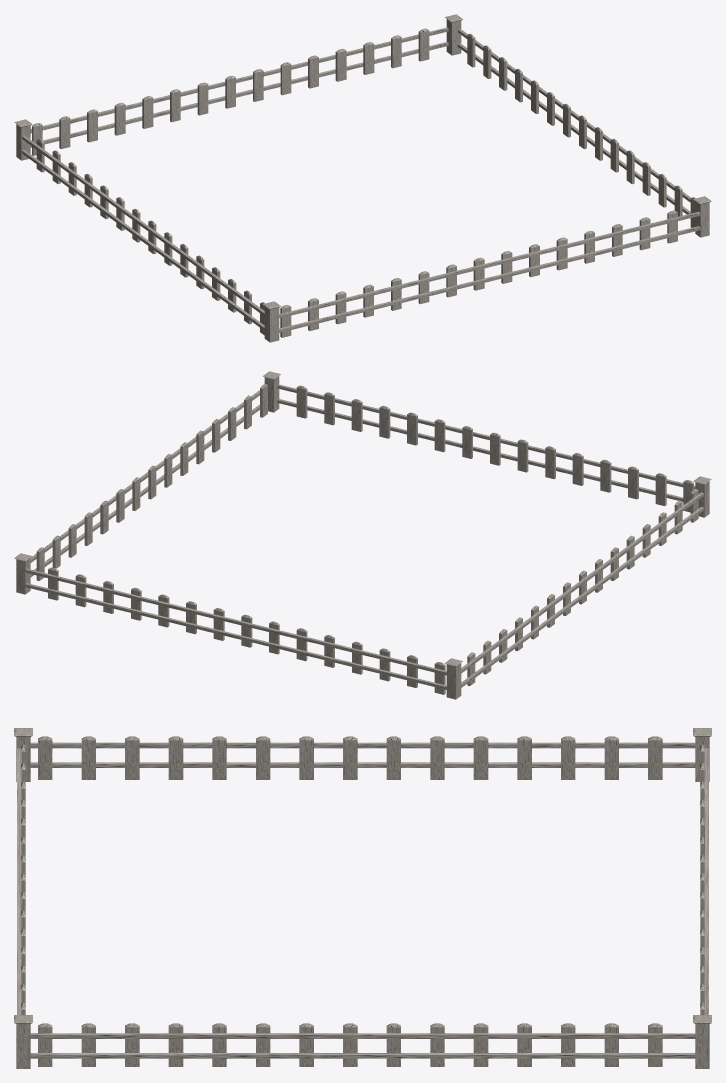
The model's file is fence.gltf.
3 views of the same model, one above another, from view 1: azimuth 30°, elevation 25°; view 2: azimuth 150°, elevation 25°; view 3: azimuth 270°, elevation 25° (orthographic). The views are drawn at different scales.
Parts seen in each view (by area): view 1: Fence Posts.002, Fence Posts, Fence Posts.003, Fence Posts.001, Lower Crossbeam, Upper Crossbeam, Upper Crossbeam.001, Lower Crossbeam.001, Upper Crossbeam.003, Lower Crossbeam.003, Upper Crossbeam.002, Lower Crossbeam.002 (+3 smaller); view 2: Fence Posts, Fence Posts.003, Fence Posts.002, Fence Posts.001, Lower Crossbeam.003, Upper Crossbeam.003, Upper Crossbeam.001, Lower Crossbeam.001, Upper Crossbeam, Lower Crossbeam, Upper Crossbeam.002, Lower Crossbeam.002 (+2 smaller); view 3: Fence Posts.001, Fence Posts.003, Lower Crossbeam.002, Upper Crossbeam.002, Upper Crossbeam.001, Lower Crossbeam.001, Fence Posts, Fence Posts.002, Upper Crossbeam, Upper Crossbeam.003, Cornerpost.001, Cornerpost.002 (+2 smaller).
Boxes of the visible parts, x1,y1,x2,y2 form: Fence Posts.002: (32, 28, 429, 155); Fence Posts: (280, 210, 677, 337); Fence Posts.003: (467, 33, 695, 227); Fence Posts.001: (36, 138, 264, 335); Lower Crossbeam: (279, 226, 700, 332); Upper Crossbeam: (279, 211, 700, 318); Upper Crossbeam.001: (22, 135, 264, 316); Lower Crossbeam.001: (22, 150, 264, 330); Upper Crossbeam.003: (30, 27, 448, 133); Lower Crossbeam.003: (30, 42, 448, 147); Upper Crossbeam.002: (458, 29, 690, 202); Lower Crossbeam.002: (458, 43, 690, 214); Fence Posts: (296, 385, 693, 512); Fence Posts.003: (36, 383, 267, 580); Fence Posts.002: (48, 567, 445, 694); Fence Posts.001: (467, 489, 698, 685); Lower Crossbeam.003: (25, 583, 446, 689); Upper Crossbeam.003: (25, 568, 446, 675); Upper Crossbeam.001: (461, 492, 703, 673); Lower Crossbeam.001: (461, 507, 703, 687); Upper Crossbeam: (277, 384, 695, 489); Lower Crossbeam: (277, 399, 683, 501); Upper Crossbeam.002: (30, 390, 259, 562); Lower Crossbeam.002: (30, 404, 259, 577); Fence Posts.001: (38, 736, 662, 779); Fence Posts.003: (38, 1023, 662, 1066); Lower Crossbeam.002: (30, 1053, 695, 1058); Upper Crossbeam.002: (30, 1033, 695, 1038); Upper Crossbeam.001: (30, 742, 695, 748); Lower Crossbeam.001: (30, 762, 695, 767); Fence Posts: (21, 744, 25, 1014); Fence Posts.002: (700, 744, 704, 1014); Upper Crossbeam: (17, 748, 21, 1014); Upper Crossbeam.003: (704, 748, 708, 1014); Cornerpost.001: (14, 1015, 32, 1068); Cornerpost.002: (693, 1015, 711, 1068).
Bounding box in the file's own units: 96.1 × 7.2 × 96.1.
Materials: 1 (1 with a texture image).
